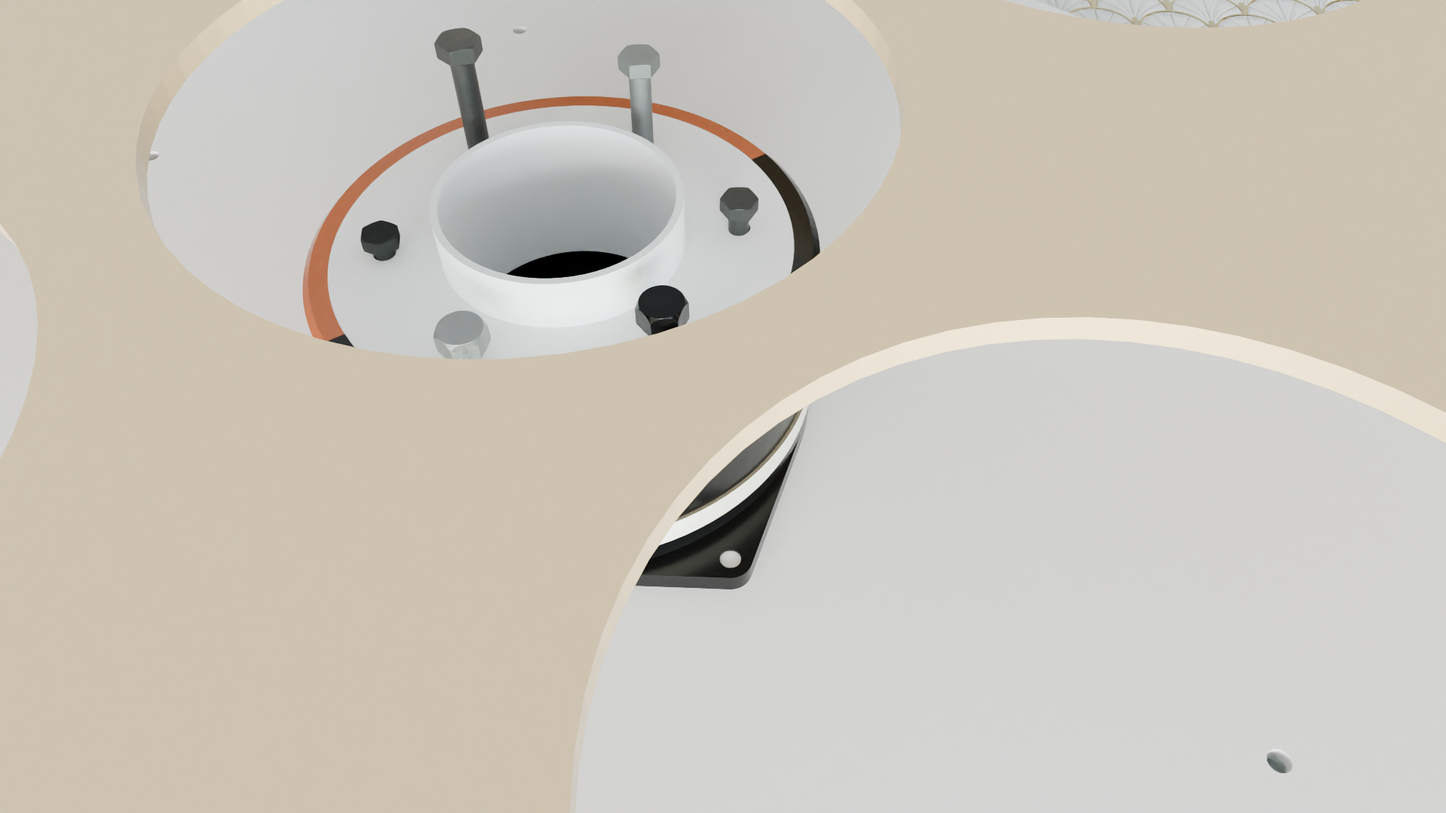bolt: (433, 310, 488, 352), (635, 285, 689, 324), (434, 28, 480, 53), (720, 187, 759, 211), (618, 44, 660, 66), (361, 221, 397, 246)
